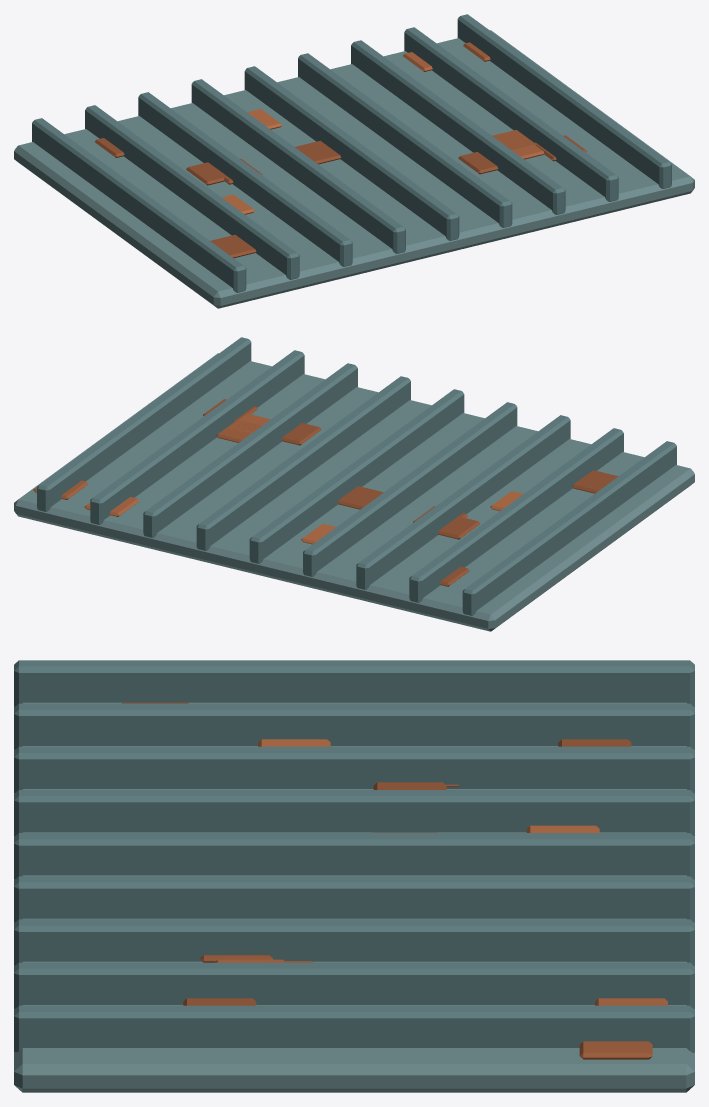
The model's file is Roof_Fragment.glb.
3 renders of one model, top to bottom at view 1: azimuth 30°, elevation 25°; view 2: azimuth 150°, elevation 25°; view 3: azimuth 270°, elevation 25°, orthographic. The views are drawn at different scales.
Visible parts, largest first — view 1: Roof_Fragment; view 2: Roof_Fragment; view 3: Roof_Fragment.
Part boxes in pixels (bbox=[...]): Roof_Fragment: bbox=[14, 14, 694, 308]; Roof_Fragment: bbox=[14, 337, 694, 631]; Roof_Fragment: bbox=[14, 660, 694, 1092].
Size of the model in its own units: 3.8 by 0.285 by 2.8.
